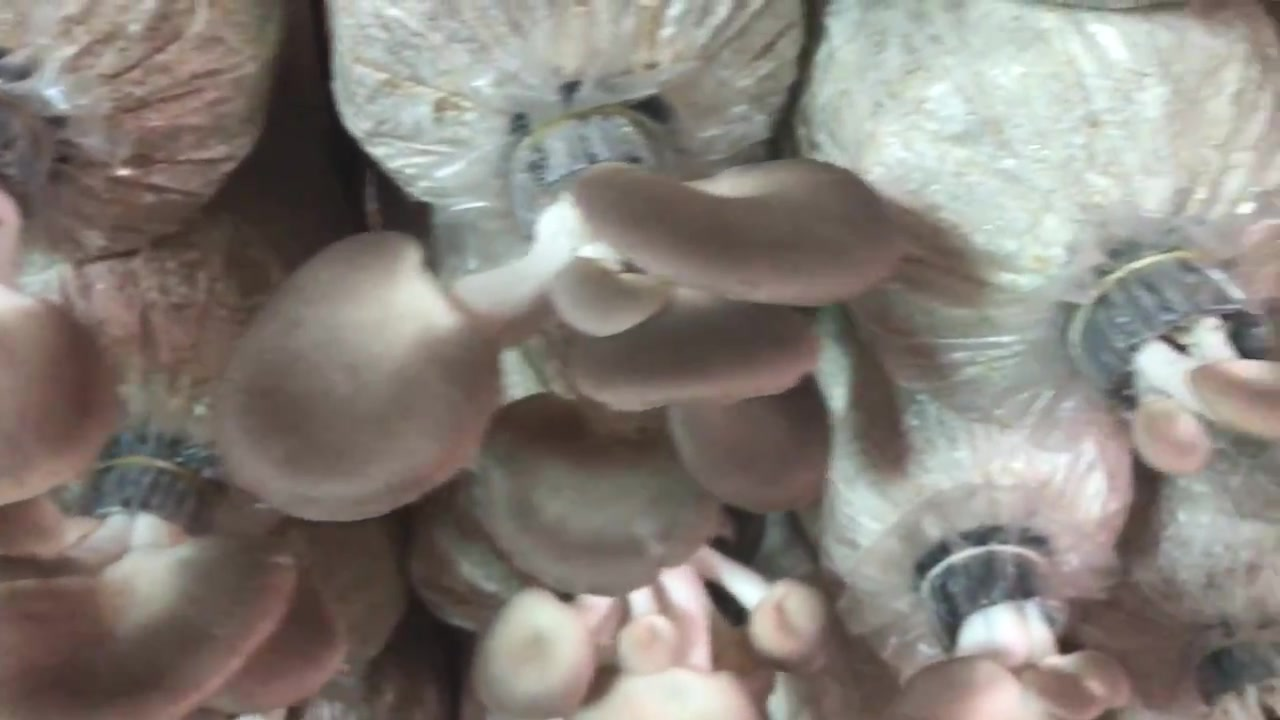nam: (216, 117, 896, 596), (1, 467, 348, 717), (475, 542, 830, 720), (1, 92, 118, 499), (901, 555, 1131, 720), (1111, 252, 1280, 473)
